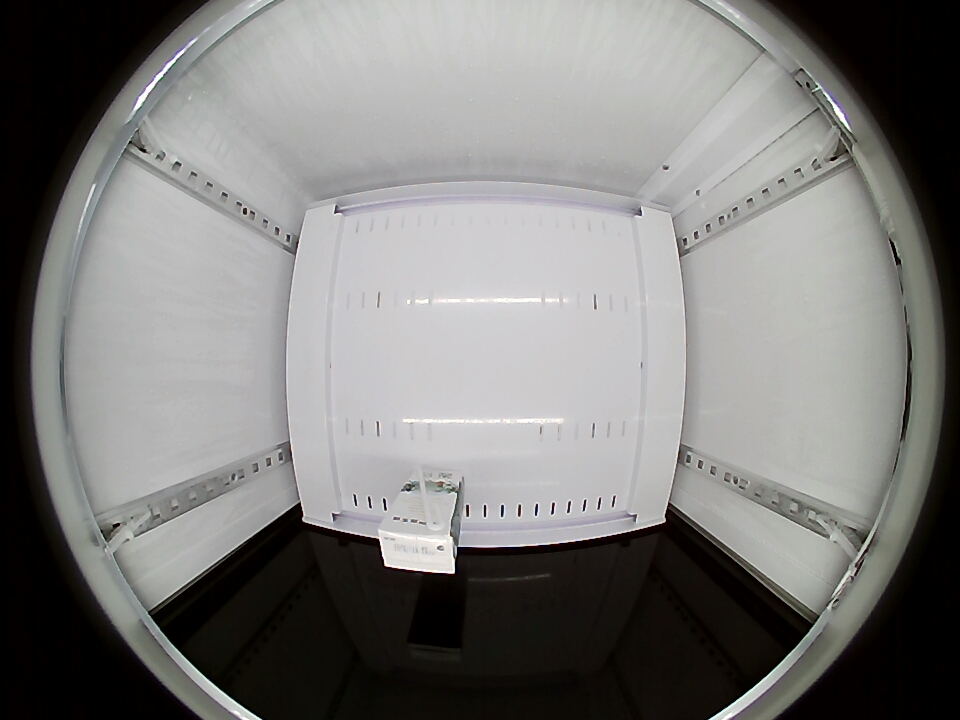jindian: (377, 509, 459, 574)
